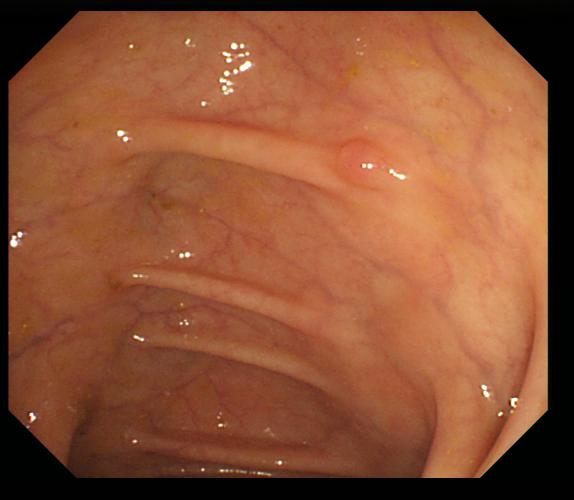polyp: (337, 137, 402, 199)
